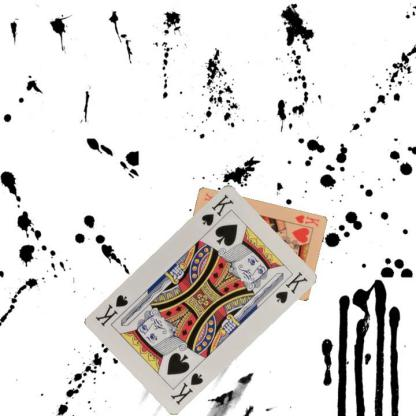Kh: (292, 212, 320, 229)
Ks: (198, 191, 235, 227), (168, 370, 204, 405)
